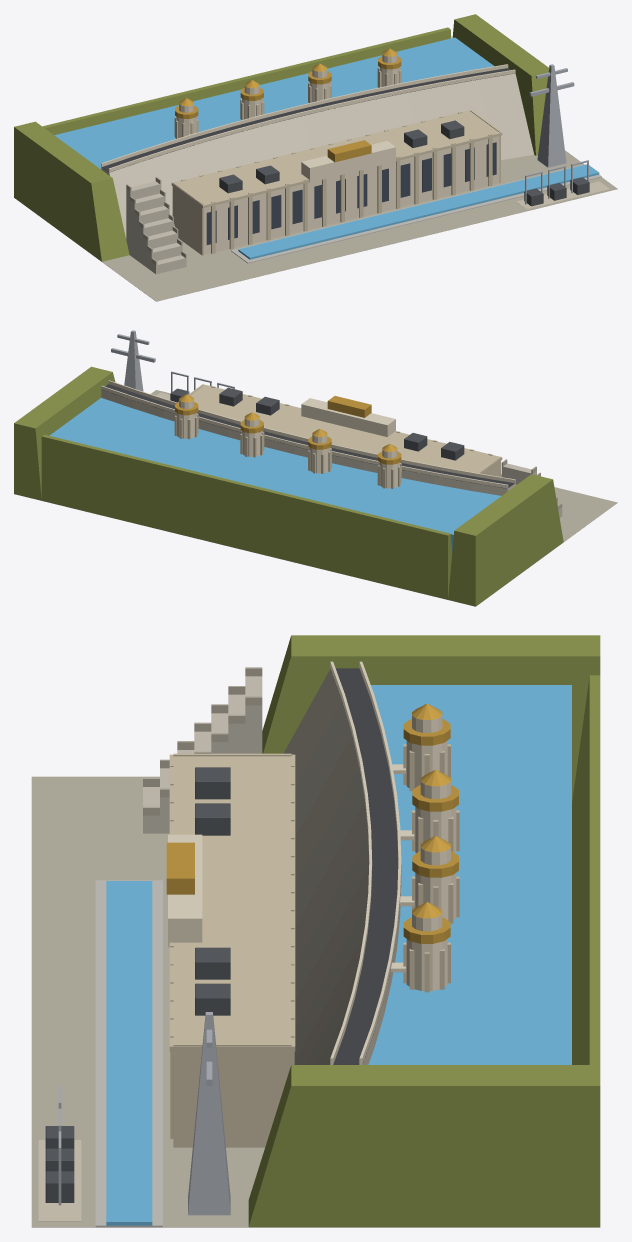
Rendered from mega_hydrodam_3.glb.
The picture shows the model from 3 angles, top to bottom: view 1: azimuth 30°, elevation 25°; view 2: azimuth 150°, elevation 25°; view 3: azimuth 270°, elevation 25°; orthographic projection. The views are drawn at different scales.
Visible parts, largest first — view 1: mega_hydrodam_3; view 2: mega_hydrodam_3; view 3: mega_hydrodam_3.
Boxes of the visible parts, bbox=[...] form: mega_hydrodam_3: bbox=[14, 14, 617, 301]; mega_hydrodam_3: bbox=[14, 330, 617, 606]; mega_hydrodam_3: bbox=[31, 635, 600, 1227].
Size of the model in its own units: 150 by 31 by 80.
